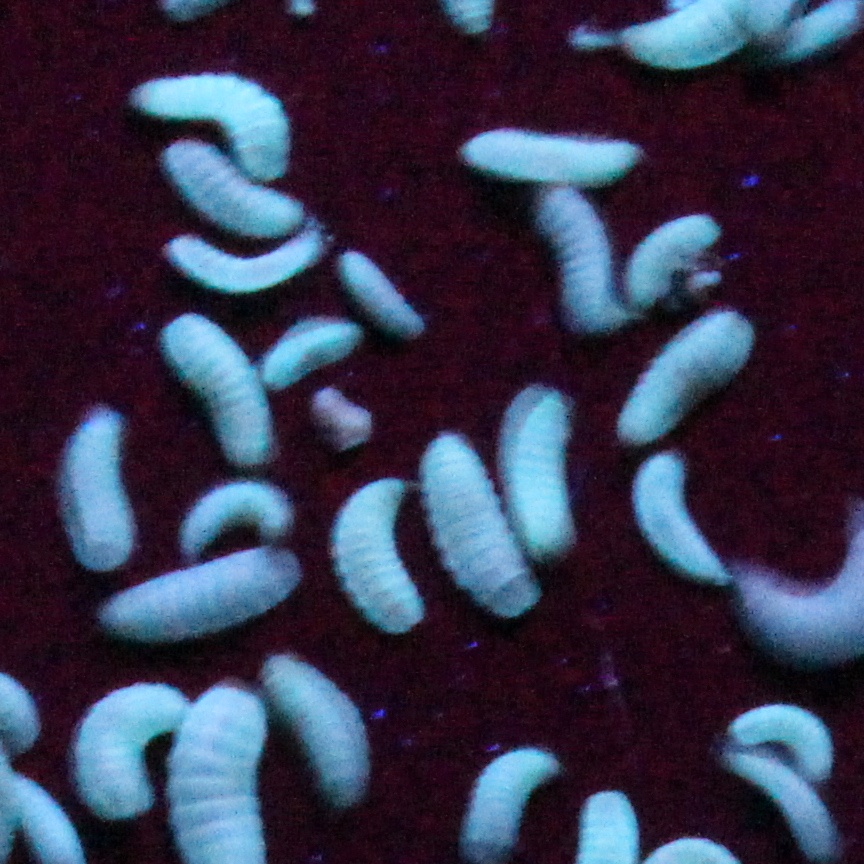larve: (114, 557, 291, 643), (436, 442, 526, 610), (275, 664, 377, 799), (633, 310, 747, 428), (173, 319, 259, 461), (78, 680, 164, 812), (149, 77, 292, 154), (73, 417, 136, 577), (515, 398, 580, 549), (643, 466, 726, 582), (347, 492, 417, 628), (173, 156, 296, 228), (554, 199, 622, 326), (743, 756, 826, 852), (468, 128, 626, 175), (738, 706, 838, 775), (184, 482, 291, 545), (638, 215, 714, 303), (338, 254, 429, 322), (177, 243, 306, 277), (273, 331, 347, 382)
